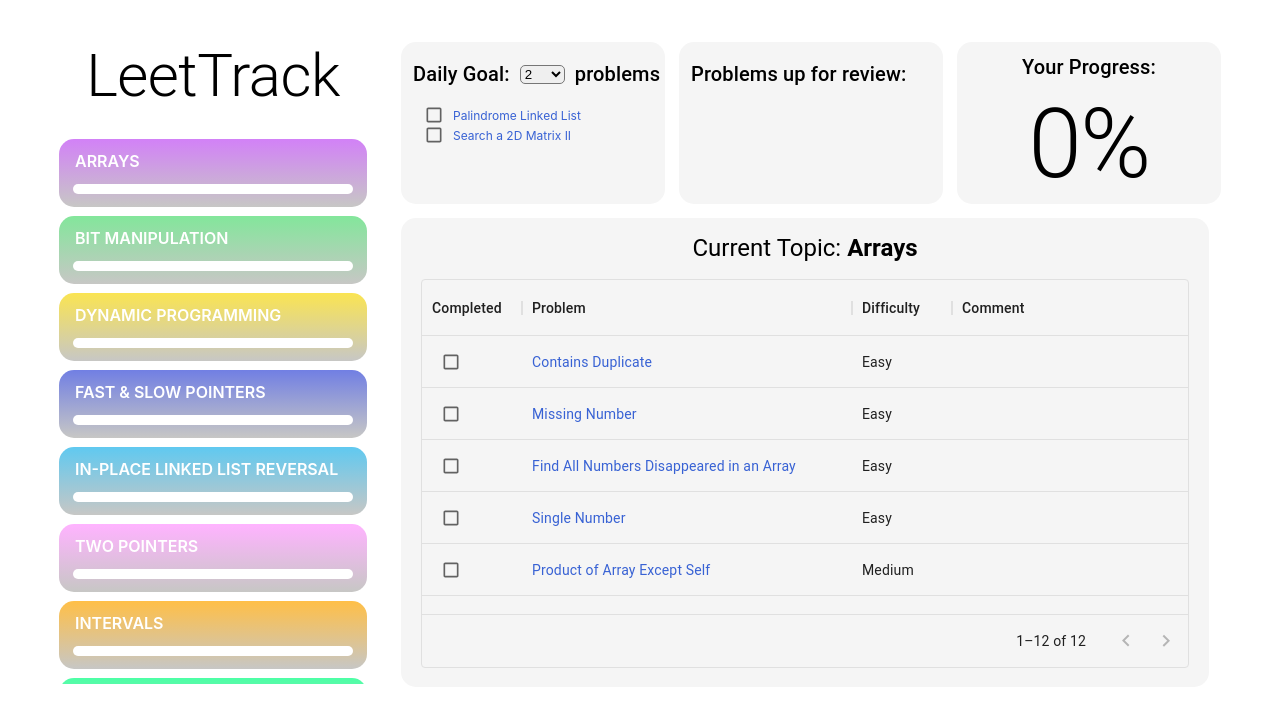
Test case: Test Daily Goal Selection › loads 3 daily questions after "3" is selected
Select "3" in the dropdown with test id "select-daily-goal" at {"x": 543, "y": 75}, box [520,65,565,84]
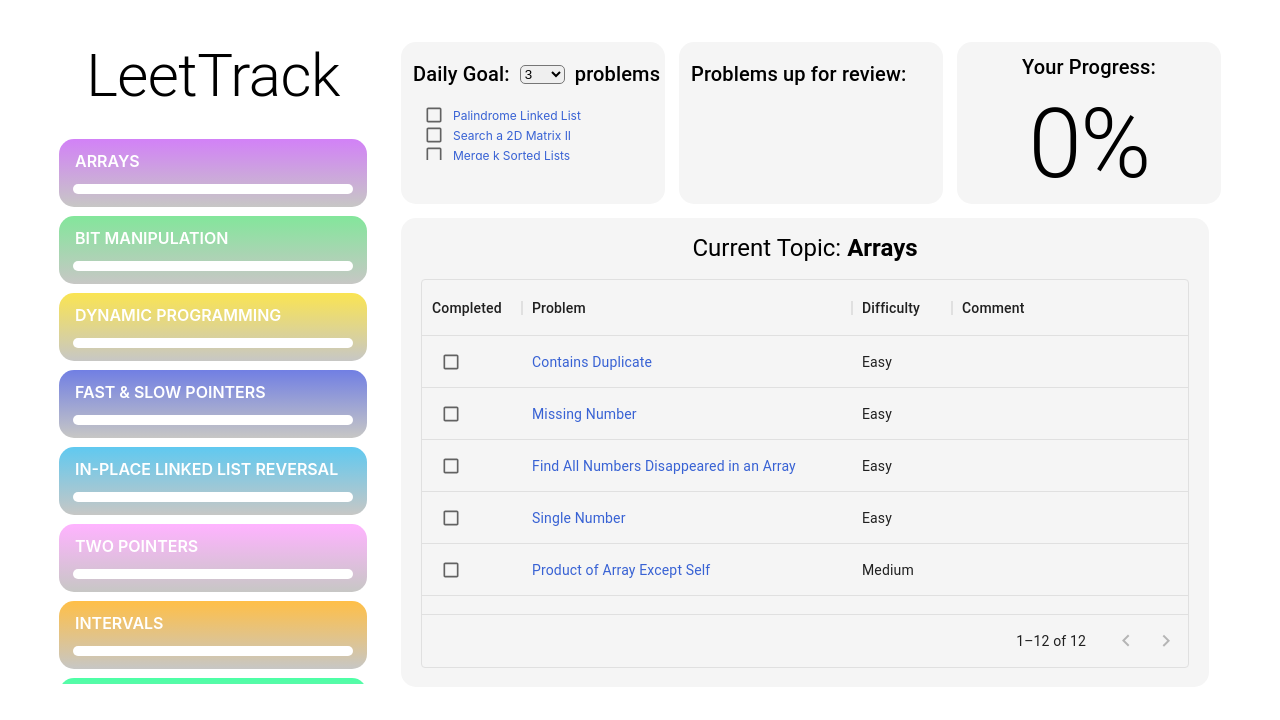
Check: the number of list items is 3, box [424,105,581,125]; [424,125,571,145]; [424,145,570,160]
